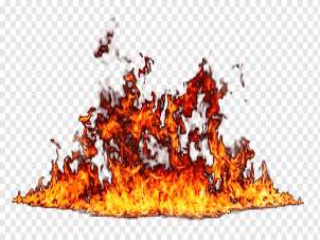fire: (21, 49, 307, 214)
